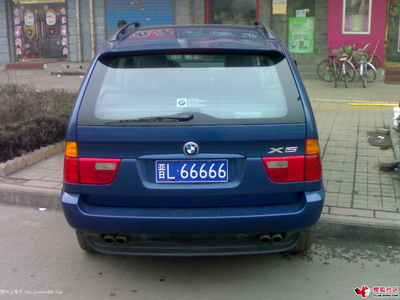plate_number: (155, 159, 228, 182)
